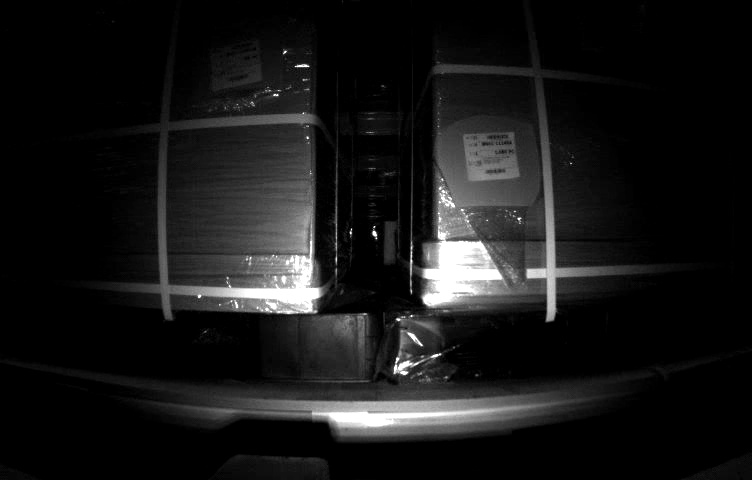True Barcode: (460, 131, 521, 177), (210, 44, 264, 85)
